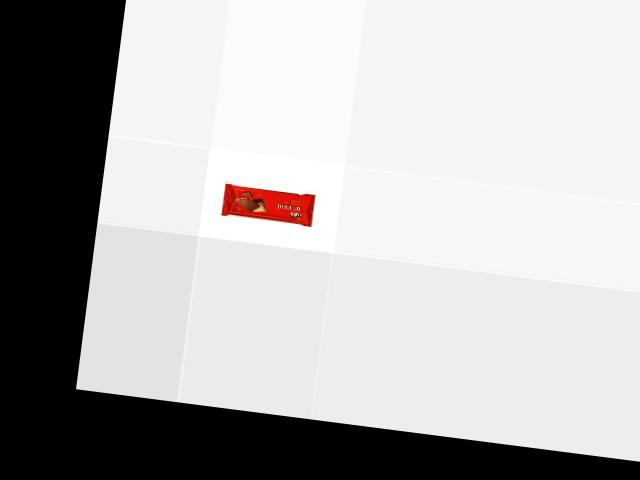chocolate: (222, 182, 319, 227)
